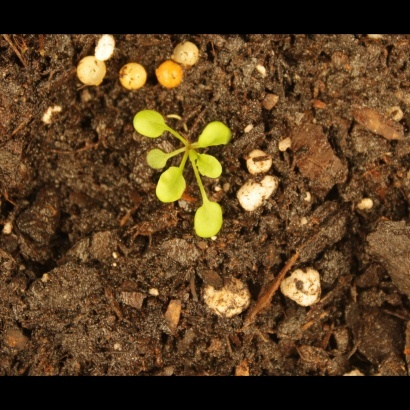leaf: (191, 115, 236, 152), (155, 165, 189, 210), (191, 199, 227, 240), (131, 108, 172, 139), (193, 149, 226, 183), (143, 147, 170, 172)
